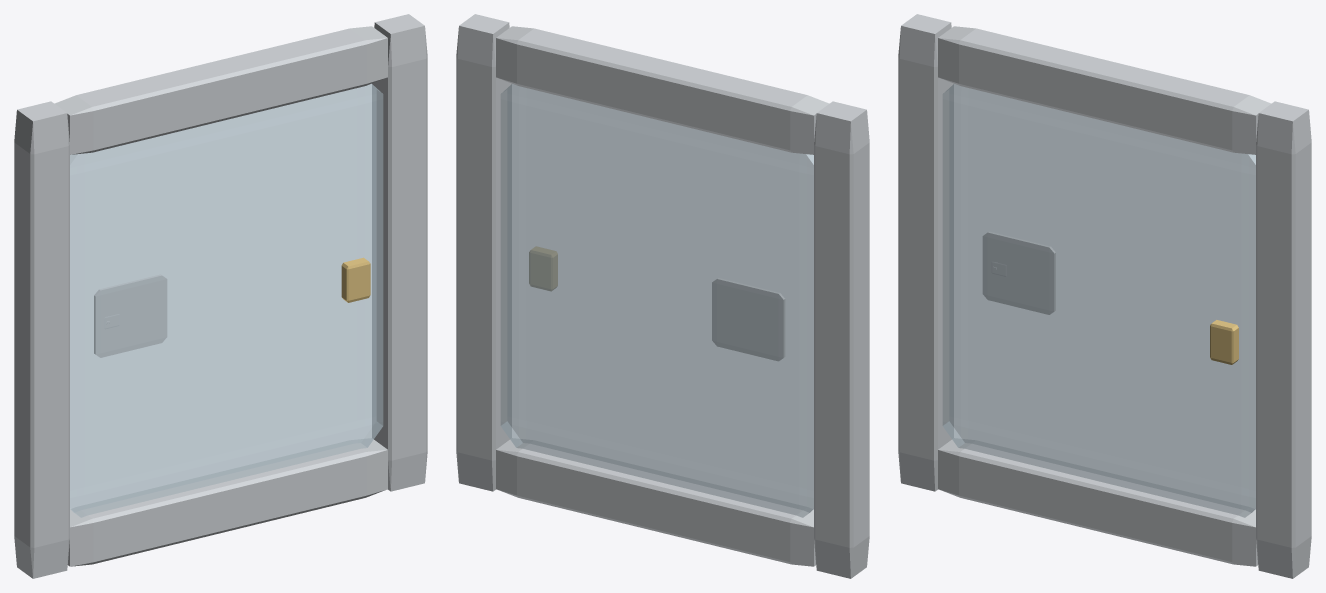
File: b21_door_double_glazed_2m.glb
3 renders of one model, left to right at view 1: azimuth 30°, elevation 25°; view 2: azimuth 150°, elevation 25°; view 3: azimuth 330°, elevation 25°, orthographic.
Visible parts, largest first — view 1: b21_door_double_glazed_2m; view 2: b21_door_double_glazed_2m; view 3: b21_door_double_glazed_2m.
Part boxes in pixels (bbox=[...]): b21_door_double_glazed_2m: bbox=[14, 14, 427, 578]; b21_door_double_glazed_2m: bbox=[456, 14, 869, 578]; b21_door_double_glazed_2m: bbox=[898, 14, 1311, 578].
Bounding box in the file's own units: 2 × 2.2 × 0.176.
